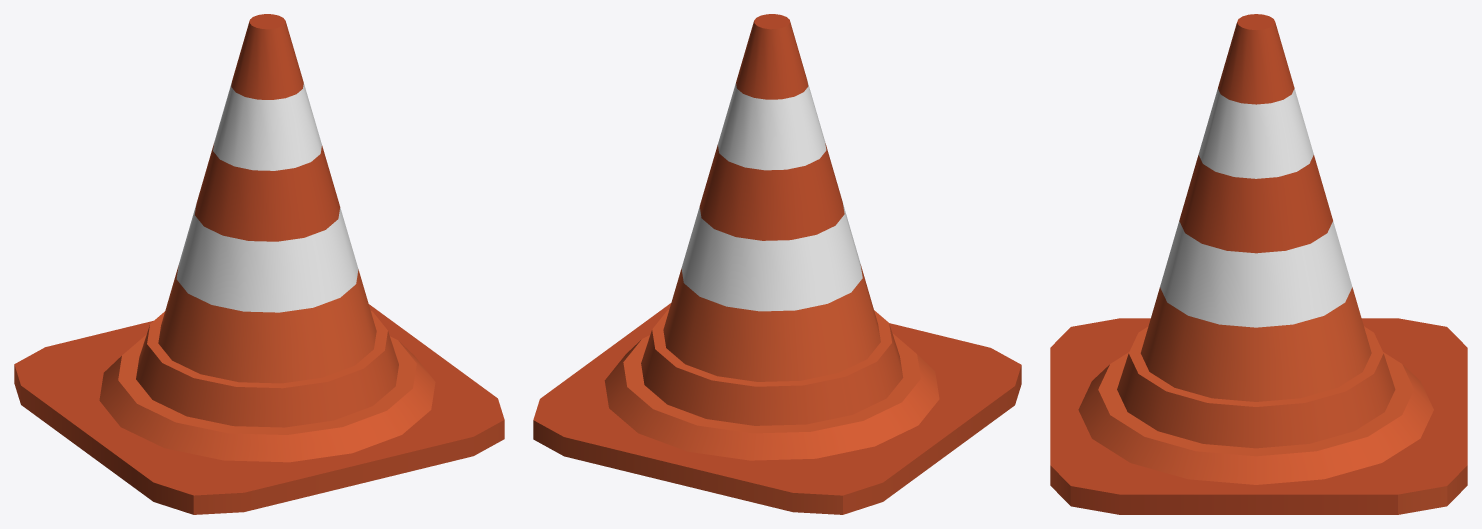
File: Traffic_Cone.fbx
The picture shows the model from 3 angles, left to right: view 1: azimuth 30°, elevation 25°; view 2: azimuth 150°, elevation 25°; view 3: azimuth 270°, elevation 25°; orthographic projection. The views are drawn at different scales.
Parts seen in each view (by area): view 1: Traffic_cone; view 2: Traffic_cone; view 3: Traffic_cone.
Boxes of the visible parts, x1=… form: Traffic_cone: x1=14, y1=14, x2=504, y2=514; Traffic_cone: x1=533, y1=14, x2=1021, y2=514; Traffic_cone: x1=1050, y1=14, x2=1467, y2=514.
Bounding box in the file's own units: 75.31 × 81.3 × 75.31.
